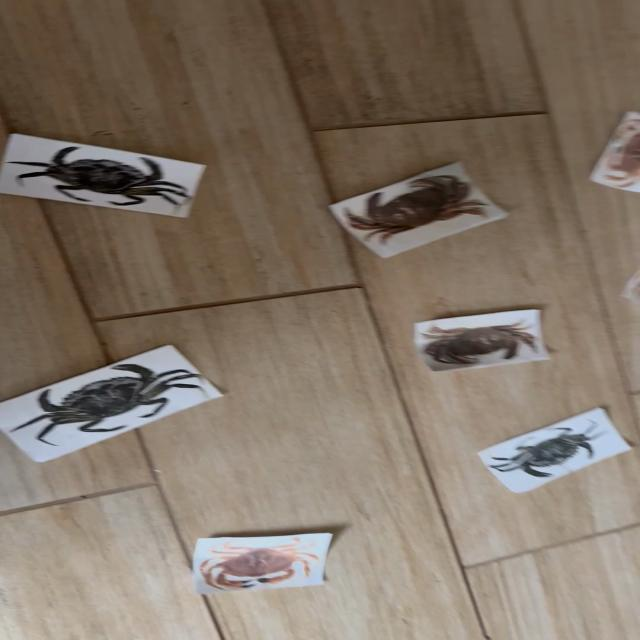egc: (13, 363, 199, 445), (17, 147, 185, 206), (488, 409, 629, 478)
